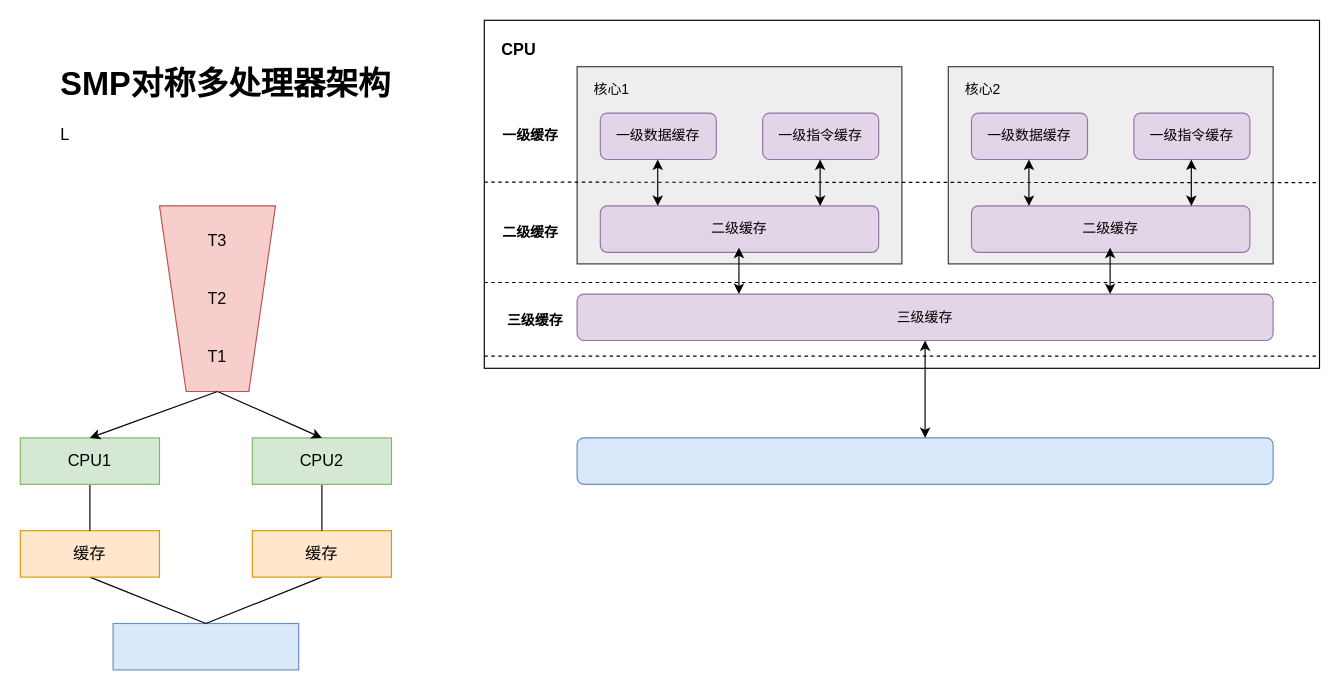
Image size: 1341x690. Some labels were removed from this diagram. Each missing label, with the box of its shape:
主存: (112, 622, 299, 670)
内存: (576, 437, 1273, 484)
